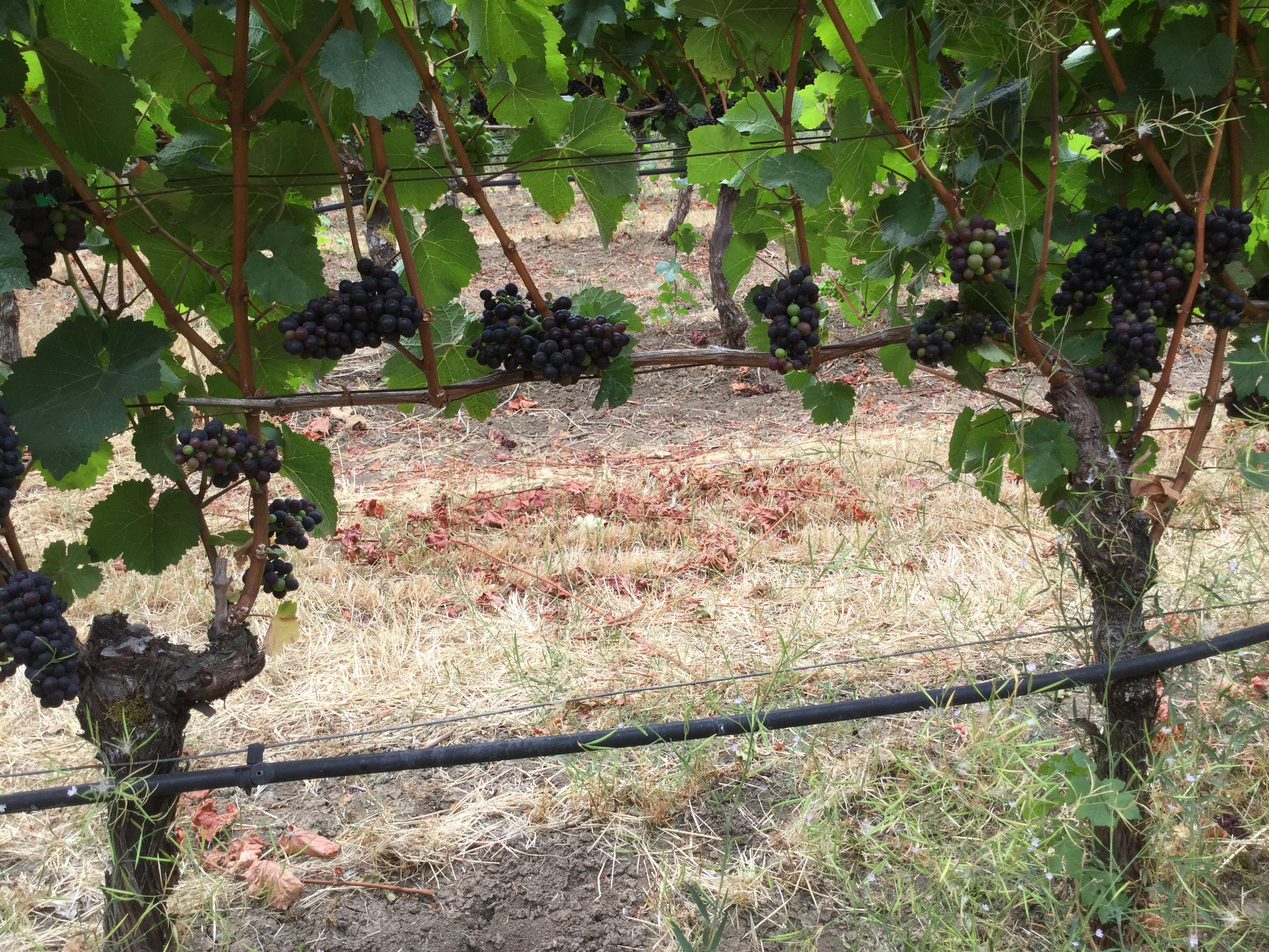leaf: (4, 312, 169, 478), (507, 97, 637, 247), (33, 37, 136, 169), (85, 480, 198, 574), (248, 121, 329, 231), (319, 30, 420, 117), (129, 16, 213, 105), (413, 203, 481, 306), (487, 56, 570, 140), (243, 221, 325, 304), (1150, 16, 1234, 97), (43, 0, 141, 68), (279, 423, 337, 536), (826, 100, 888, 201), (456, 0, 544, 68), (675, 0, 797, 46), (135, 234, 212, 306), (384, 126, 448, 211), (686, 124, 766, 187), (1010, 418, 1077, 492), (430, 301, 487, 385), (132, 404, 191, 481), (949, 407, 1014, 474), (39, 540, 102, 604), (758, 152, 832, 205), (36, 440, 113, 490), (720, 92, 783, 147), (570, 286, 643, 332), (561, 0, 624, 48), (684, 24, 737, 81), (722, 232, 769, 294), (1227, 329, 1268, 397), (0, 211, 32, 293), (538, 7, 569, 88), (801, 381, 855, 424), (894, 178, 935, 234), (0, 126, 52, 170), (592, 355, 634, 409), (877, 342, 916, 386), (1051, 203, 1092, 244), (0, 37, 27, 96), (444, 391, 496, 420), (383, 353, 426, 388), (259, 0, 305, 32), (1236, 446, 1268, 491), (205, 373, 241, 398), (402, 338, 421, 357), (765, 92, 782, 112), (790, 97, 802, 121), (47, 129, 58, 141), (367, 161, 372, 167), (402, 406, 407, 409), (490, 101, 493, 105), (164, 156, 166, 159), (209, 404, 214, 405), (164, 149, 166, 151), (1040, 222, 1042, 224), (453, 209, 456, 210), (164, 149, 165, 150), (402, 54, 403, 54)
